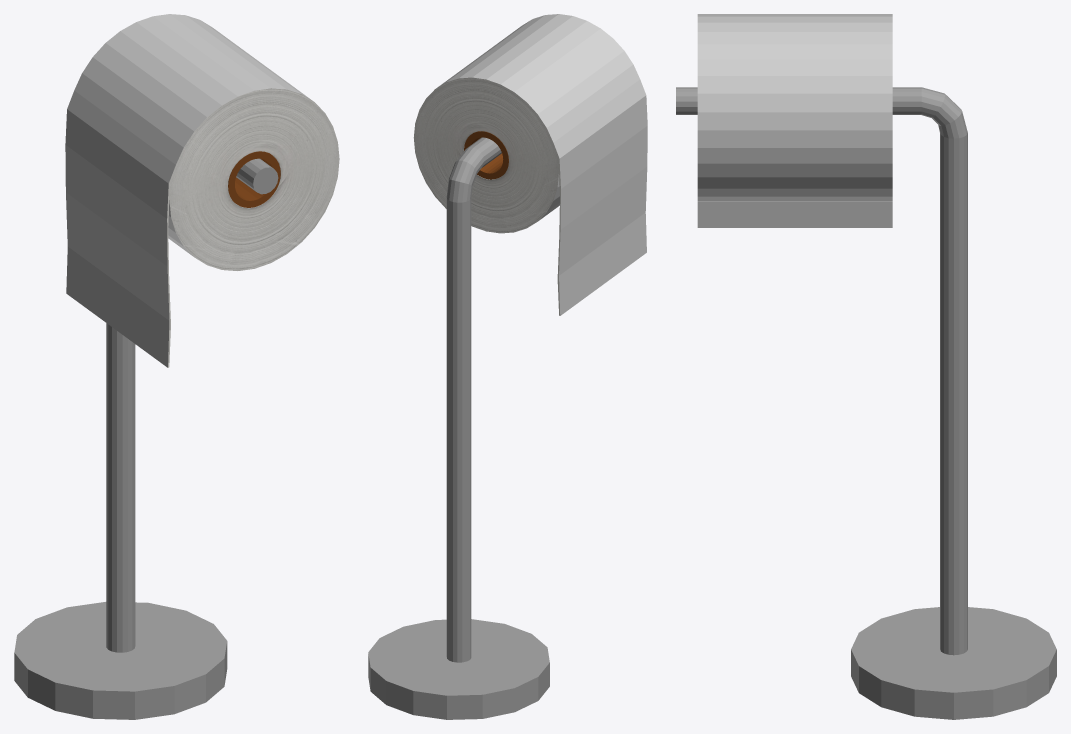
The model's file is Bog_roll.fbx.
3 renders of one model, left to right at view 1: azimuth 30°, elevation 25°; view 2: azimuth 150°, elevation 25°; view 3: azimuth 270°, elevation 25°, orthographic. The views are drawn at different scales.
Visible parts, largest first — view 1: PQ, Support, Carton; view 2: PQ, Support, Carton; view 3: PQ, Support.
Boxes of the visible parts, bbox=[...] form: PQ: bbox=[65, 14, 339, 367]; Support: bbox=[14, 158, 278, 719]; Carton: bbox=[228, 151, 280, 207]; PQ: bbox=[413, 14, 647, 315]; Support: bbox=[368, 137, 549, 719]; Carton: bbox=[464, 131, 508, 179]; PQ: bbox=[697, 14, 892, 227]; Support: bbox=[676, 87, 1056, 719].
Bounding box in the file's own units: 137 × 481 × 254.
4 materials, 1 textured.
